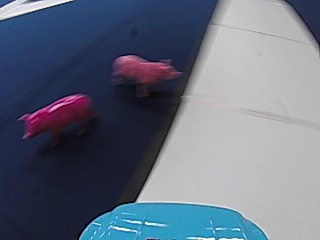pig: (15, 90, 96, 141), (109, 51, 183, 94)
